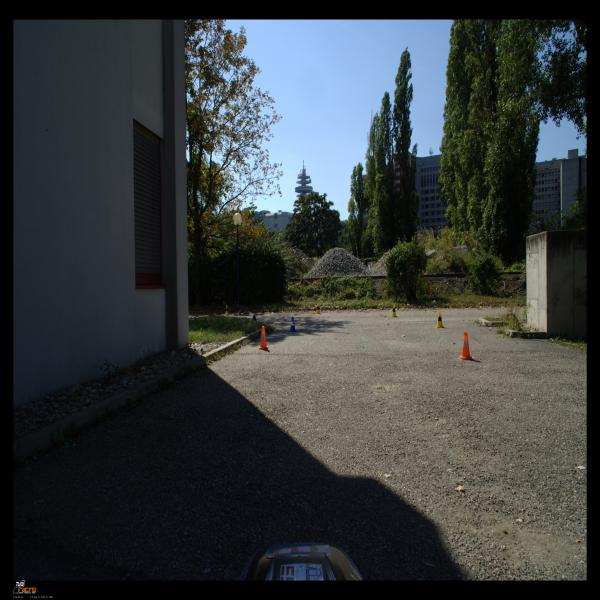blue_cone: (288, 317, 298, 332), (250, 314, 257, 321)
orange_cone: (458, 331, 474, 360), (258, 326, 269, 351)
yellow_cone: (435, 312, 444, 328), (390, 304, 397, 318), (315, 303, 321, 314), (224, 305, 230, 315)
